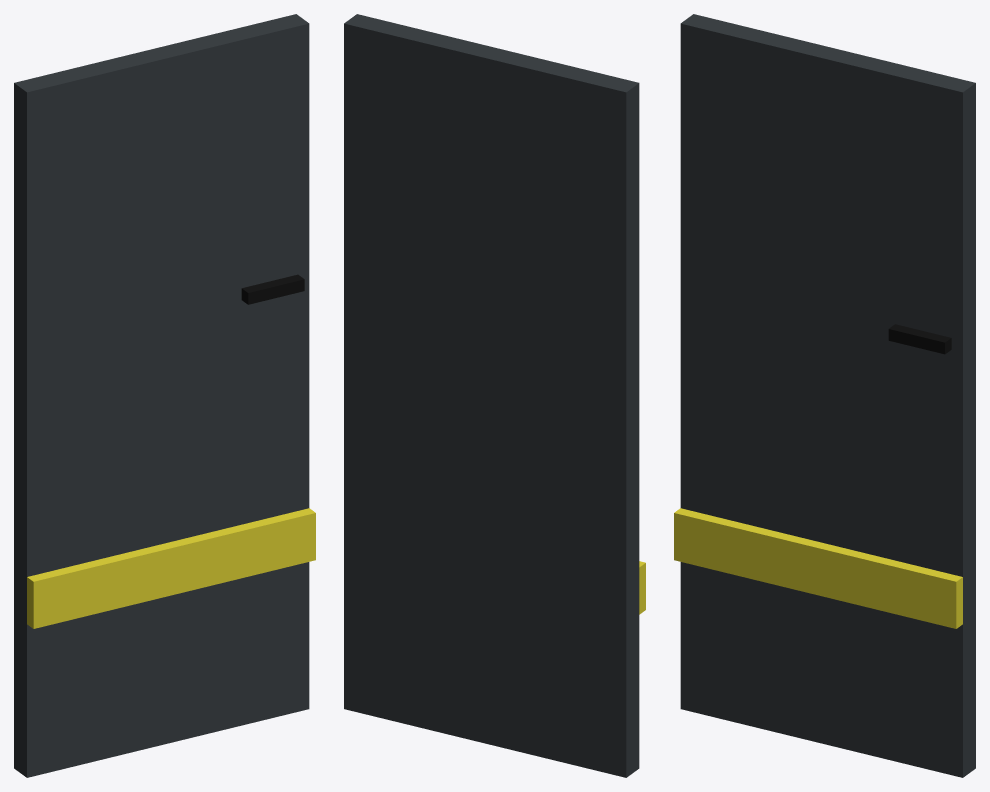
File: security_van_side_door.glb
3 renders of one model, left to right at view 1: azimuth 30°, elevation 25°; view 2: azimuth 150°, elevation 25°; view 3: azimuth 330°, elevation 25°, orthographic.
Parts seen in each view (by area): view 1: body:compound; view 2: body:compound; view 3: body:compound.
Boxes of the visible parts, x1,y1,x2,y2 form: body:compound: (14, 14, 315, 777); body:compound: (344, 14, 645, 777); body:compound: (674, 14, 975, 777).
Size of the model in its own units: 0.7812 by 1.81 by 0.0938.
